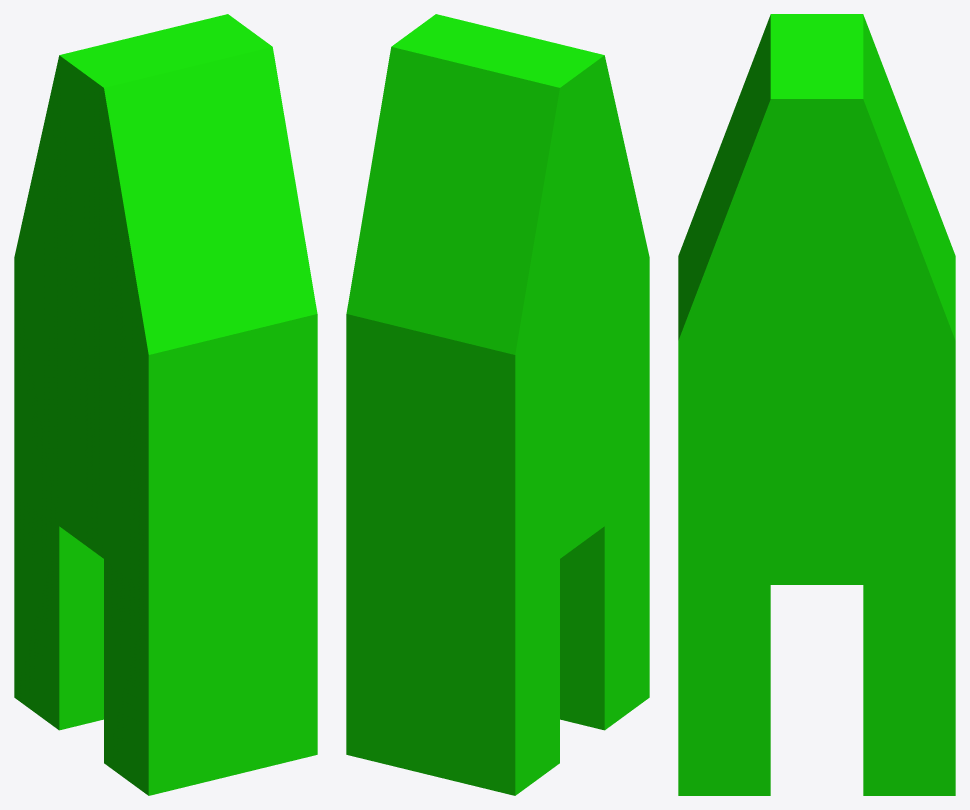
File: Body_Player.fbx
3 renders of one model, left to right at view 1: azimuth 30°, elevation 25°; view 2: azimuth 150°, elevation 25°; view 3: azimuth 270°, elevation 25°, orthographic. The views are drawn at different scales.
Visible parts, largest first — view 1: NPC Player; view 2: NPC Player; view 3: NPC Player.
Part boxes in pixels (x1,y1,x2,y2): NPC Player: (14,14,317,795); NPC Player: (346,14,649,795); NPC Player: (678,14,955,795).
Bounding box in the file's own units: 46.95 × 180 × 64.7.
1 material, 1 textured.
